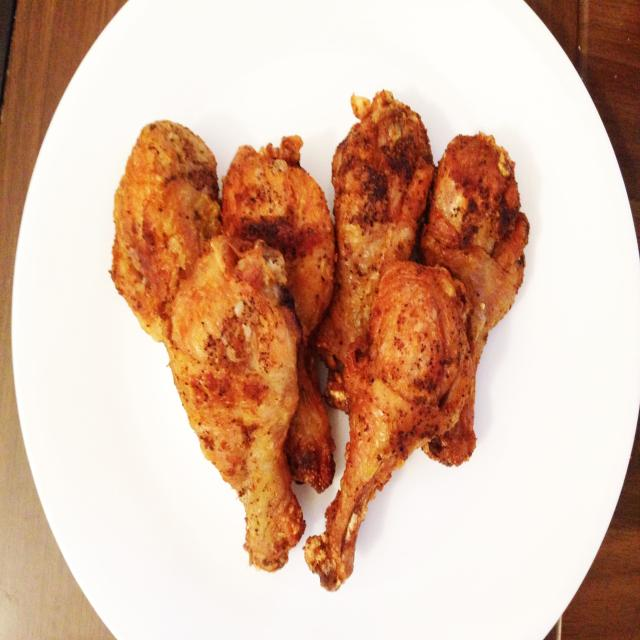Frango: (304, 262, 476, 593), (163, 234, 301, 570), (217, 150, 343, 478), (311, 96, 435, 418), (112, 119, 248, 403), (423, 130, 533, 467)
